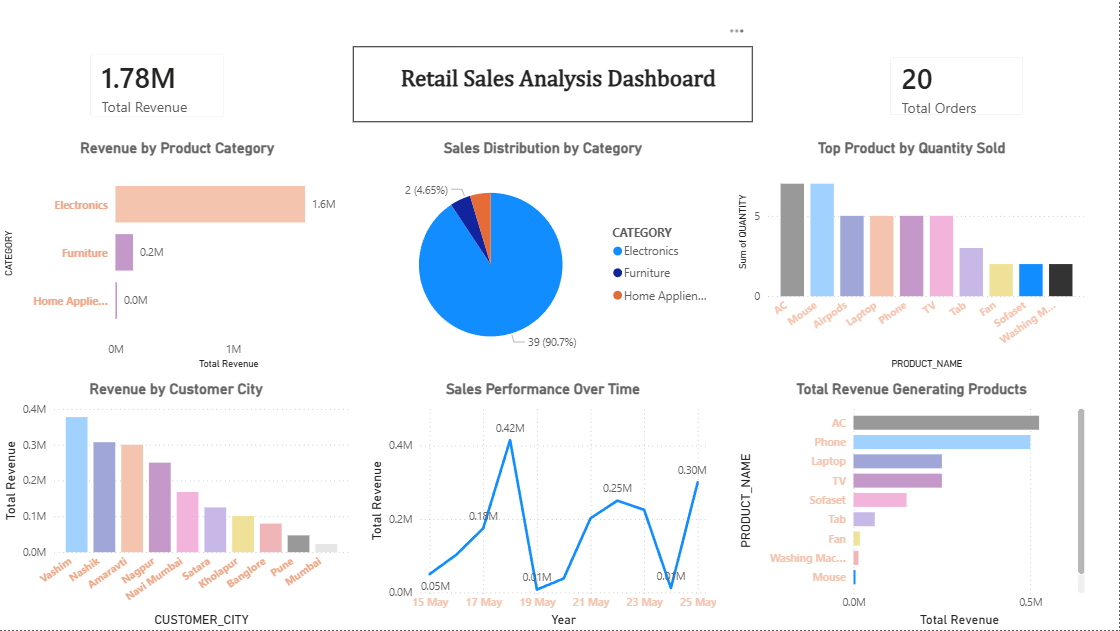

This screenshot's page, from the dashboard's own definition file:
{"tool":"powerbi","page":{"name":"Page 1","canvas":[1280,720],"ordinal":0},"visuals":[{"type":"cardVisual","fields":{"Data":["ORDERS.Total Sales"]},"box":[87.8,43.9,188,107],"z":0},{"type":"barChart","title":"Revenue by Product Category","fields":{"Category":["PRODUCT_DATA.CATEGORY"],"Y":["ORDERS.Total Sales"]},"box":[1.4,159.2,404.8,269],"z":1000},{"type":"pieChart","title":"Sales Distribution by Category","fields":{"Y":["Sum(ORDERS.QUANTITY)"],"Category":["PRODUCT_DATA.CATEGORY"]},"box":[418.5,159.2,406.2,269],"z":2000},{"type":"columnChart","title":"Top Product by Quantity Sold","fields":{"Category":["PRODUCT_DATA.PRODUCT_NAME"],"Y":["Sum(ORDERS.QUANTITY)"]},"box":[839.8,159.2,406.2,269],"z":3000},{"type":"clusteredColumnChart","title":"Revenue by Customer City","fields":{"Category":["CUSTMORE_DATA.CUSTOMER_CITY"],"Y":["ORDERS.Total Sales"]},"box":[0,433.6,404.8,286.8],"z":4000},{"type":"clusteredBarChart","title":"Total Revenue Generating Products","fields":{"Category":["PRODUCT_DATA.PRODUCT_NAME"],"Y":["ORDERS.Total Sales"]},"box":[839.8,433.6,406.2,286.8],"z":5000},{"type":"lineChart","title":"Sales Performance Over Time","fields":{"Y":["ORDERS.Total Sales"],"Category":["ORDERS.ORDER_DATE.Variation.Date Hierarchy.Year","ORDERS.ORDER_DATE.Variation.Date Hierarchy.Quarter","ORDERS.ORDER_DATE.Variation.Date Hierarchy.Month","ORDERS.ORDER_DATE.Variation.Date Hierarchy.Day"]},"box":[418.5,433.6,406.2,286.8],"z":5001},{"type":"textbox","box":[404.8,52.1,456.9,87.8],"z":5002},{"type":"cardVisual","fields":{"Data":["ORDERS.Total Orders"]},"box":[1001.7,48,186.6,100.2],"z":5003}]}

Visuals, with their boxes in screenshot pixels (x1, y1, x2, y2), scaled from the page's 1280x720 canvas onto the 1120x631 screenshot:
cardVisual - ORDERS.Total Sales: rect(77, 38, 241, 132)
"Revenue by Product Category" barChart: rect(1, 140, 355, 375)
"Sales Distribution by Category" pieChart: rect(366, 140, 722, 375)
"Top Product by Quantity Sold" columnChart: rect(735, 140, 1090, 375)
"Revenue by Customer City" clusteredColumnChart: rect(0, 380, 354, 630)
"Total Revenue Generating Products" clusteredBarChart: rect(735, 380, 1090, 630)
"Sales Performance Over Time" lineChart: rect(366, 380, 722, 630)
textbox: rect(354, 46, 754, 123)
cardVisual - ORDERS.Total Orders: rect(876, 42, 1040, 130)
